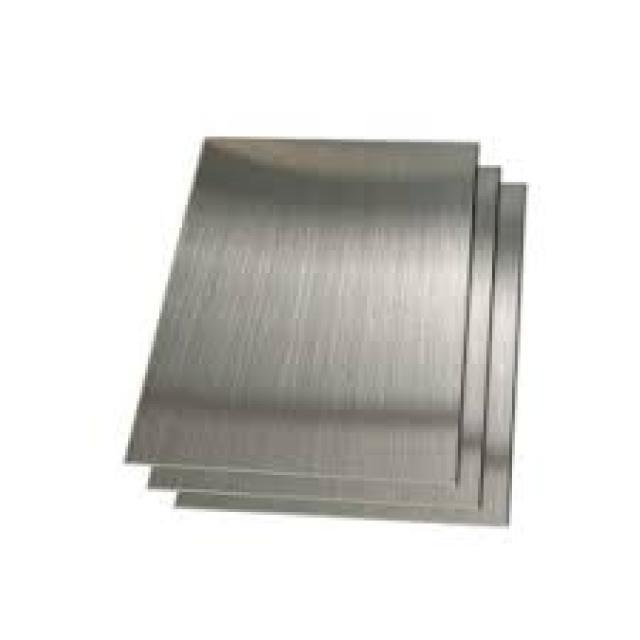Dry Waste: (122, 136, 529, 526)
